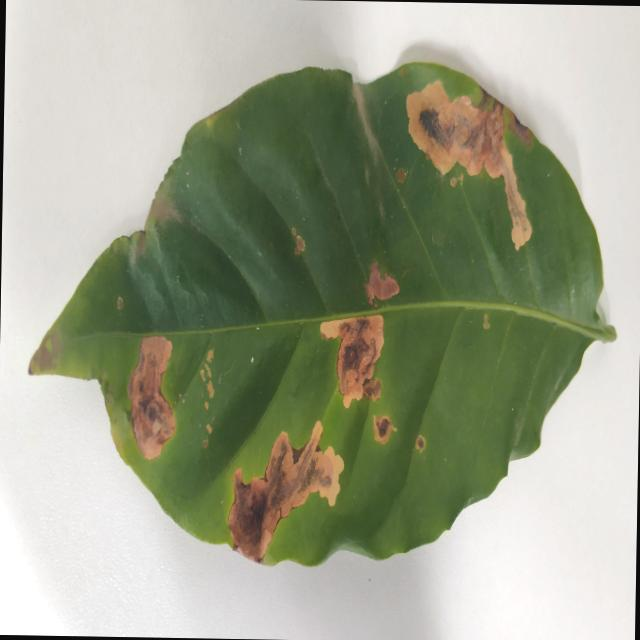KaratDaunKopi: (406, 81, 532, 249), (228, 421, 343, 562), (127, 336, 175, 460), (320, 314, 383, 408), (364, 261, 399, 304), (611, 611, 635, 640), (373, 415, 396, 444), (512, 115, 529, 145), (363, 378, 381, 401), (295, 235, 305, 254), (415, 435, 425, 452), (450, 173, 462, 187), (395, 168, 406, 183), (206, 381, 214, 398), (483, 313, 490, 329), (204, 364, 211, 377), (206, 349, 213, 362), (117, 296, 123, 310), (200, 370, 205, 381), (203, 439, 208, 449), (206, 424, 211, 433), (291, 228, 296, 236), (204, 401, 208, 410)
